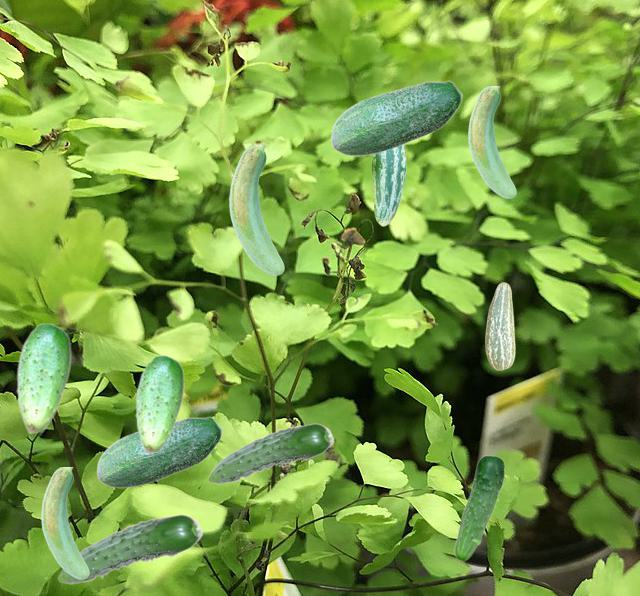cucumber: (57, 514, 202, 583), (330, 80, 462, 155), (96, 416, 222, 487), (207, 423, 333, 483), (229, 145, 283, 274), (16, 322, 70, 433), (453, 455, 504, 560), (41, 467, 88, 578), (468, 86, 515, 197), (135, 354, 183, 453), (371, 145, 405, 225), (485, 282, 514, 369)
